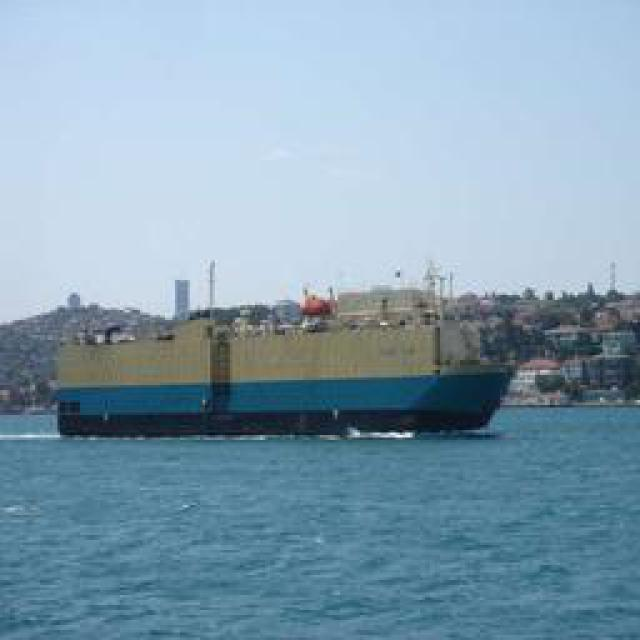Ship: (50, 314, 523, 437)
